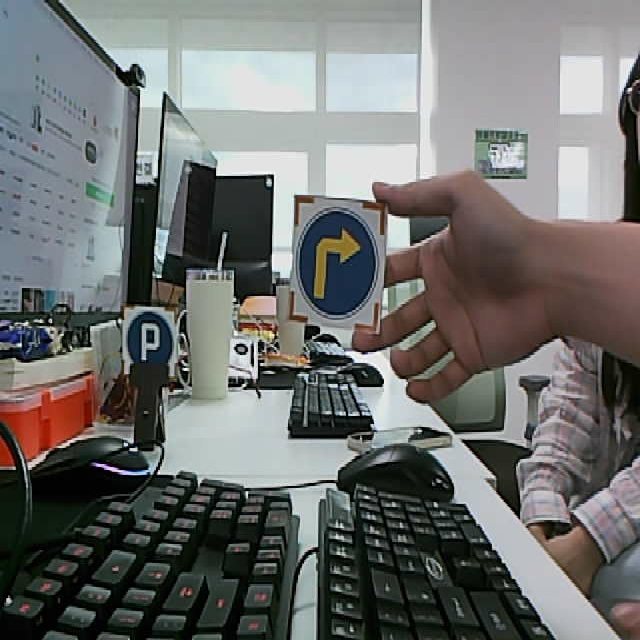right: (286, 194, 390, 334)
